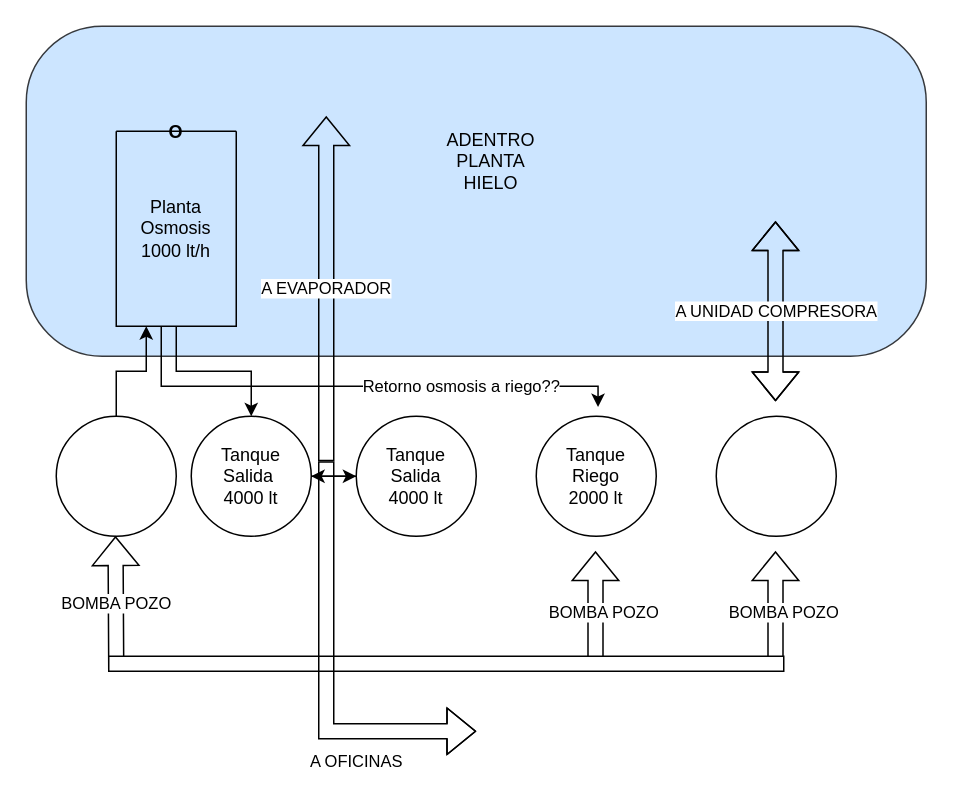
Image size: 953x797. Some labels were removed from this diagram. Each missing label, with the centre of its shape:
"Tanque Entrada 4000 lt" belongs at (x=115, y=475).
"Torre de enfriado" belongs at (x=775, y=475).
